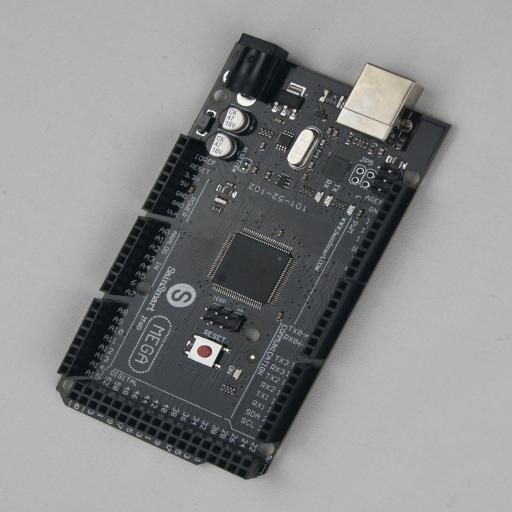Arduino Mega 2560 -Black-: (56, 33, 452, 480)
